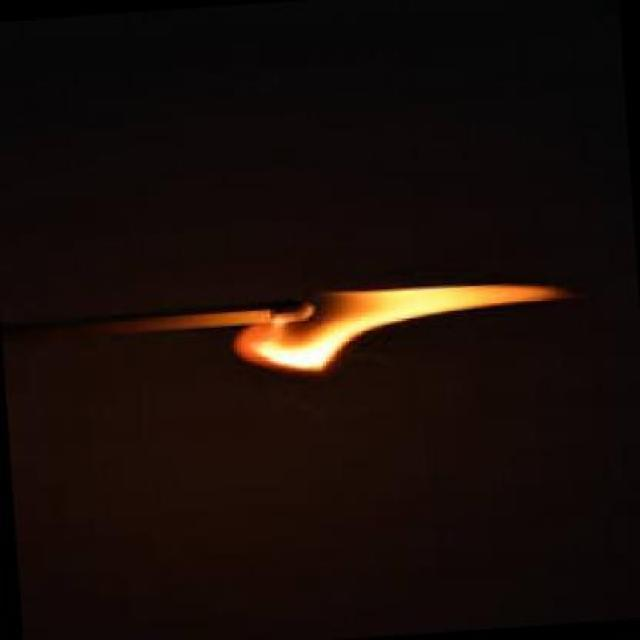Fire: (227, 276, 569, 378)
